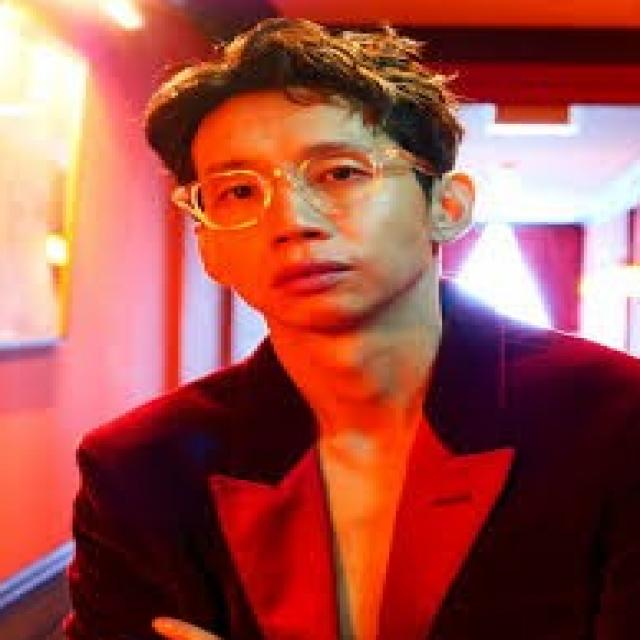Glasses: (162, 139, 445, 235)
